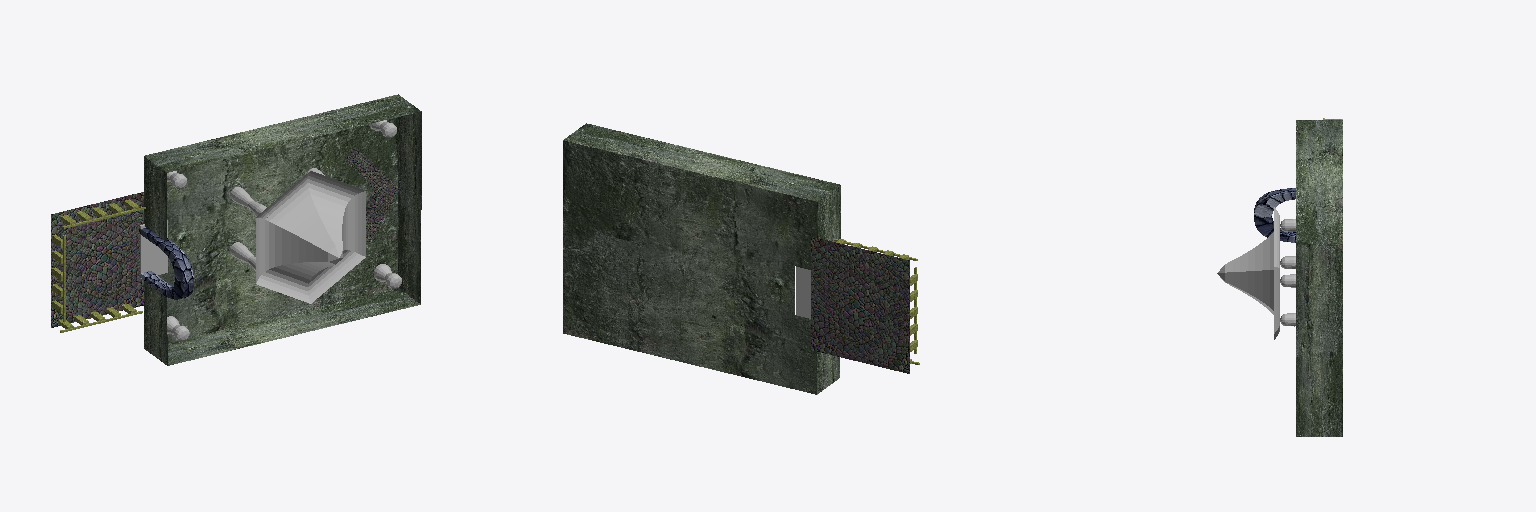
The picture shows the model from 3 angles: view 1: azimuth 30°, elevation 25°; view 2: azimuth 150°, elevation 25°; view 3: azimuth 270°, elevation 25°; orthographic projection.
Parts seen in each view (by area): view 1: Line14, Line15, Line02, Plane01, Line11, Line13, Box01, Box02, Box03, Box04; view 2: Line14, Line15, Plane01, Box01; view 3: Line14, Line15, Line02, Line13.
Boxes of the visible parts, <box> form: Line14: <box>144,94,421,364</box>; Line15: <box>144,95,421,365</box>; Line02: <box>256,171,365,303</box>; Plane01: <box>51,192,143,327</box>; Line11: <box>345,148,399,242</box>; Line13: <box>139,228,193,299</box>; Box01: <box>140,220,167,278</box>; Box02: <box>52,234,65,321</box>; Box03: <box>61,199,145,228</box>; Box04: <box>58,304,142,332</box>; Line14: <box>563,123,840,394</box>; Line15: <box>563,124,840,394</box>; Plane01: <box>811,236,909,373</box>; Box01: <box>796,267,810,318</box>; Line14: <box>1296,120,1342,436</box>; Line15: <box>1296,120,1342,436</box>; Line02: <box>1217,207,1279,339</box>; Line13: <box>1254,188,1295,242</box>.
Bounding box in the file's own units: 334 × 178 × 105.
Materials: 18 (4 with a texture image).